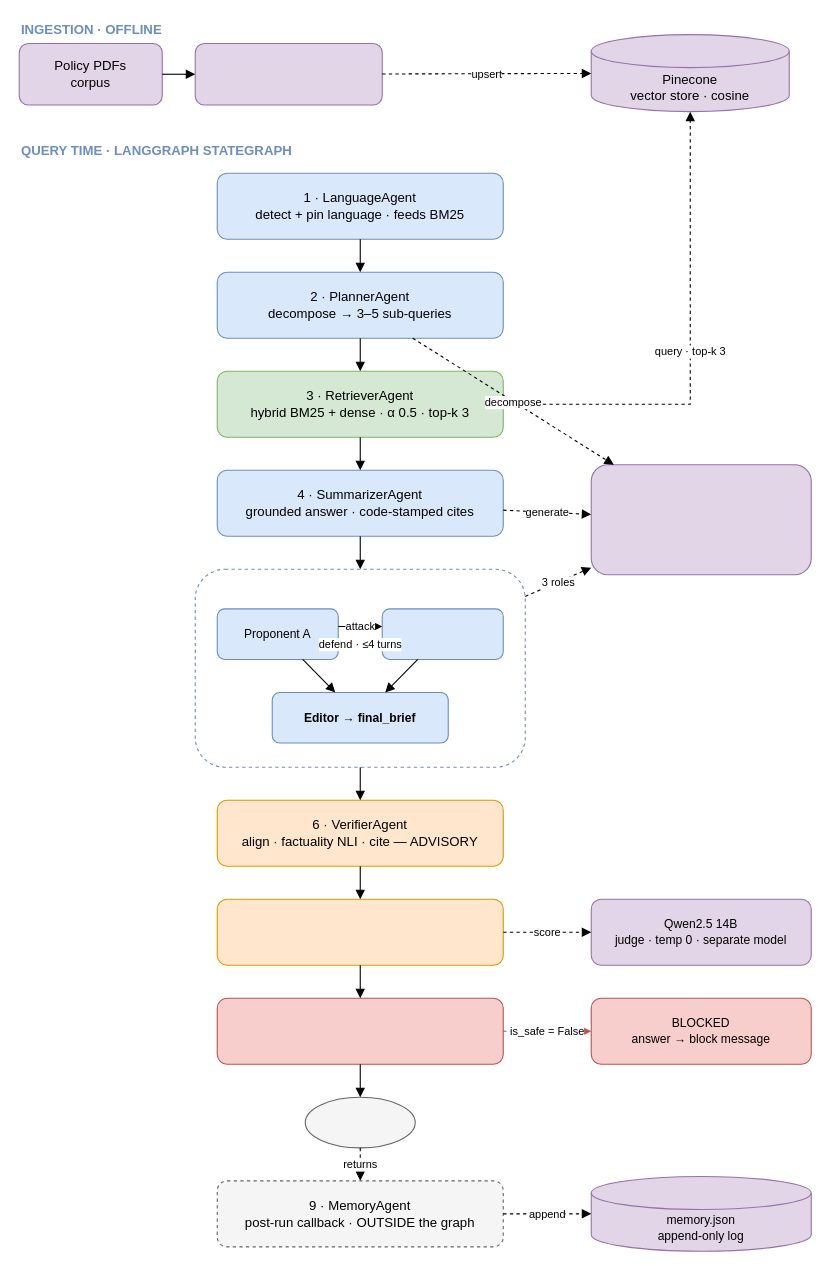
This 831x1271 diagram has some shape labels left out. The box of each missing label's shape, as (x1, y1, x2, y2) in pixels:
5 · DebateAgent — sub-graph: (194, 568, 525, 767)
7 · JudgeAgent 5-dim rubric · temp 0 — ADVISORY: (216, 898, 503, 965)
8 · GuardrailsAgent — GATE injection check + PII redact: (216, 997, 503, 1064)
Chunk + Embed MiniLM · 384-d: (194, 42, 382, 105)
Critic B: (381, 608, 503, 659)
END: (304, 1096, 415, 1148)
Ollama · local Mistral 7B — generator planner · summarizer · debate · NLI: (590, 464, 811, 575)
